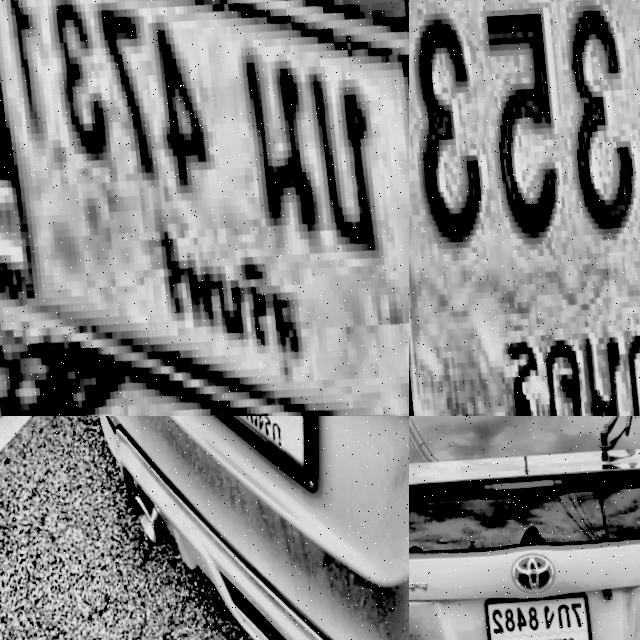license-plate: (0, 0, 409, 416), (409, 0, 640, 416), (153, 416, 331, 504), (481, 580, 595, 640)
